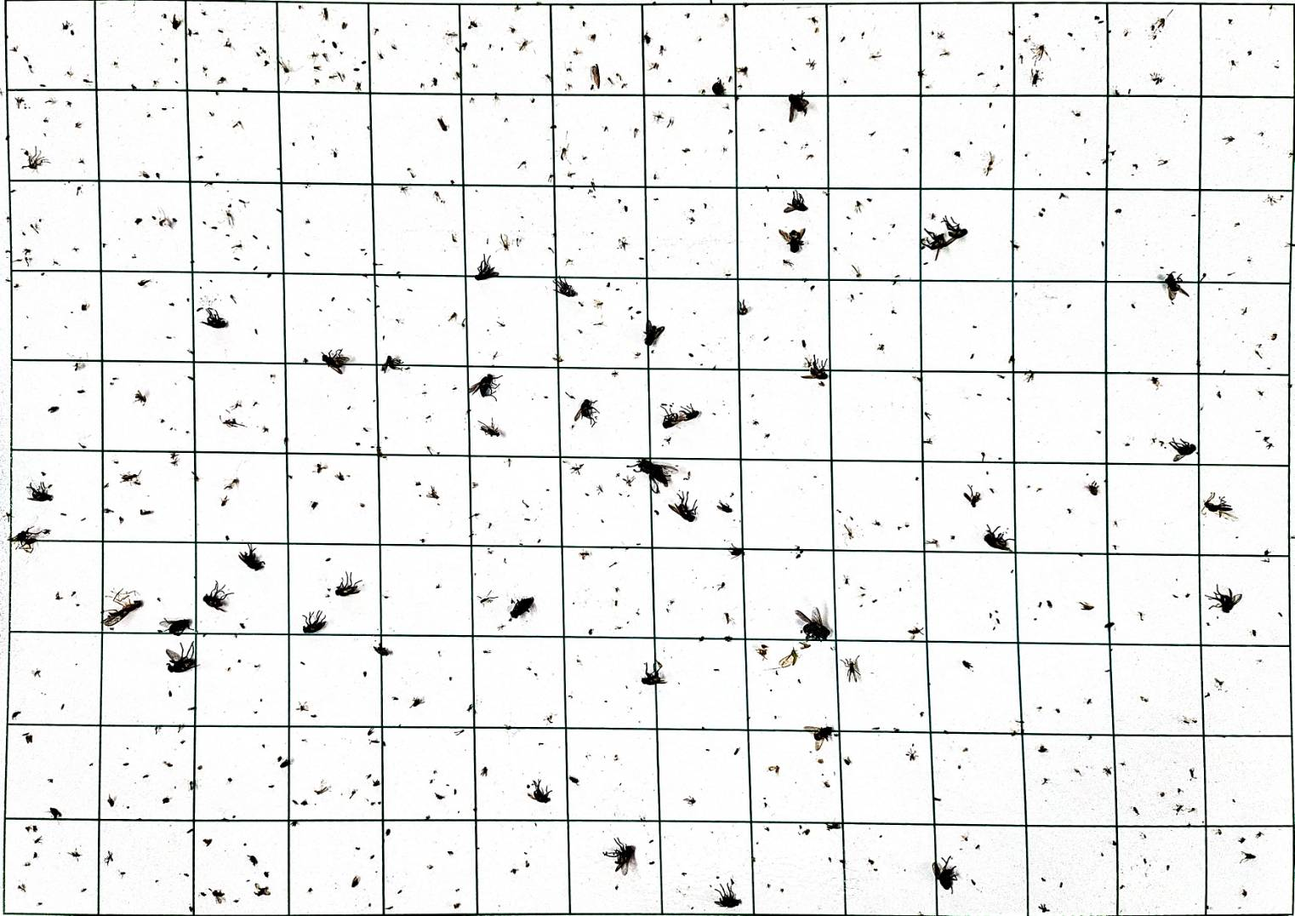fly: (630, 457, 677, 491), (603, 836, 639, 875), (794, 605, 832, 641), (7, 523, 49, 553), (164, 637, 197, 673), (1205, 584, 1242, 613), (660, 401, 699, 428), (931, 855, 959, 892), (1201, 492, 1238, 520), (202, 579, 233, 611), (668, 489, 699, 521), (1161, 271, 1191, 303), (467, 372, 501, 400), (711, 877, 742, 907), (922, 227, 951, 257), (805, 724, 836, 752), (983, 524, 1013, 552), (318, 349, 350, 375), (572, 396, 600, 425), (237, 542, 266, 570), (801, 354, 829, 381), (20, 145, 49, 171), (641, 658, 668, 685), (778, 227, 806, 253), (334, 572, 364, 596), (643, 316, 666, 347), (474, 253, 501, 279), (526, 777, 553, 803), (198, 306, 228, 329), (159, 616, 193, 636), (941, 214, 966, 241), (788, 92, 811, 121), (26, 479, 55, 502), (301, 609, 328, 633), (1171, 436, 1195, 462), (784, 189, 809, 213), (380, 354, 411, 373)
test: (101, 587, 144, 629), (1149, 9, 1173, 40), (508, 595, 535, 621), (841, 653, 863, 682), (553, 276, 578, 298), (478, 417, 504, 438), (778, 645, 800, 669), (155, 207, 177, 228), (963, 484, 982, 507), (1030, 43, 1050, 64), (119, 469, 143, 485), (220, 415, 246, 429), (477, 589, 497, 606), (589, 63, 601, 90), (983, 151, 996, 175), (726, 541, 744, 558), (711, 77, 727, 96), (1030, 67, 1044, 88), (209, 888, 227, 904), (279, 56, 294, 75), (20, 248, 34, 267), (907, 623, 923, 639), (1084, 480, 1101, 495), (253, 882, 271, 896), (373, 643, 392, 656), (133, 389, 148, 405), (425, 484, 440, 500), (716, 499, 733, 513), (737, 298, 750, 316), (170, 13, 183, 31), (905, 743, 918, 761), (1265, 194, 1284, 206), (277, 754, 293, 768), (652, 112, 669, 125), (224, 207, 235, 227), (499, 233, 511, 251), (755, 645, 769, 660), (409, 695, 425, 708), (1148, 376, 1162, 390), (67, 848, 82, 861), (1149, 72, 1164, 85), (48, 806, 62, 819), (518, 38, 531, 52), (376, 447, 389, 461), (437, 116, 449, 131), (808, 14, 823, 26), (313, 784, 329, 795), (568, 463, 584, 474), (1240, 851, 1257, 861), (1078, 601, 1095, 611), (617, 236, 629, 250), (296, 700, 310, 712), (314, 462, 329, 473), (844, 524, 855, 539), (825, 820, 841, 830), (559, 145, 568, 162), (104, 849, 114, 864), (22, 732, 34, 744), (1024, 370, 1035, 383), (1214, 677, 1225, 690), (1037, 902, 1050, 913), (1263, 436, 1274, 449), (737, 65, 748, 78), (724, 611, 734, 625), (219, 495, 230, 507), (247, 854, 258, 866), (16, 96, 27, 108), (806, 58, 817, 70), (106, 794, 116, 807), (351, 874, 361, 887), (73, 361, 86, 371), (578, 550, 591, 560), (854, 200, 864, 213), (169, 452, 179, 465), (1254, 346, 1264, 359), (137, 279, 153, 287), (682, 796, 696, 805), (925, 538, 939, 547), (444, 30, 458, 39), (569, 774, 580, 785), (233, 120, 244, 131), (917, 68, 928, 79), (321, 7, 329, 22), (851, 265, 861, 277), (1172, 805, 1184, 815), (643, 32, 652, 45), (233, 244, 246, 253), (962, 660, 973, 670), (11, 710, 22, 720), (335, 471, 346, 481), (448, 311, 458, 322), (517, 160, 527, 171), (594, 299, 604, 310), (192, 471, 202, 482), (767, 765, 779, 774), (81, 77, 93, 86), (792, 544, 804, 553), (1222, 136, 1235, 144), (869, 52, 882, 60), (252, 328, 260, 341), (185, 28, 198, 36), (18, 882, 28, 892), (1102, 766, 1112, 776), (186, 375, 196, 385), (12, 280, 22, 290), (29, 223, 39, 233), (289, 138, 299, 148), (1037, 744, 1048, 753), (553, 354, 564, 363), (62, 21, 71, 32), (1158, 438, 1167, 449), (186, 347, 195, 358), (295, 4, 306, 13), (134, 216, 143, 227), (140, 508, 154, 515), (467, 513, 481, 520), (1157, 158, 1169, 166), (461, 317, 469, 329), (639, 815, 647, 827), (34, 835, 44, 844), (202, 838, 212, 847), (1263, 548, 1272, 558), (470, 480, 479, 490), (73, 122, 83, 131), (544, 73, 554, 82), (570, 49, 580, 58), (38, 81, 48, 90), (1254, 656, 1264, 665), (1286, 150, 1295, 160), (48, 406, 59, 414), (1104, 621, 1115, 629), (1073, 765, 1081, 776), (467, 20, 478, 28), (216, 76, 227, 84), (514, 236, 522, 247), (698, 87, 709, 95), (939, 49, 951, 56), (481, 649, 493, 656), (32, 668, 41, 677), (843, 756, 852, 765), (189, 781, 198, 790), (548, 246, 557, 255), (282, 435, 291, 444), (545, 714, 554, 723), (273, 208, 282, 217), (201, 219, 210, 228), (224, 40, 233, 49), (354, 81, 363, 90), (393, 316, 402, 325), (1181, 717, 1190, 726), (684, 471, 693, 480), (310, 500, 318, 510), (349, 789, 357, 799), (496, 321, 506, 329), (892, 725, 900, 735), (652, 510, 662, 518), (285, 473, 295, 481), (505, 458, 513, 468), (75, 185, 83, 195), (200, 10, 210, 18), (71, 245, 81, 253), (304, 182, 312, 192), (461, 40, 469, 50), (564, 256, 572, 266), (77, 442, 87, 450), (376, 798, 384, 808), (812, 28, 822, 36), (1190, 715, 1197, 726), (782, 260, 793, 267), (222, 484, 233, 491), (54, 593, 61, 604), (106, 381, 117, 388), (548, 173, 555, 184), (170, 216, 181, 223), (449, 234, 456, 245), (81, 302, 89, 311), (1132, 806, 1140, 815), (290, 820, 299, 828), (1136, 611, 1144, 620), (1188, 768, 1196, 777), (598, 516, 606, 525), (496, 624, 508, 630), (68, 591, 77, 599), (228, 294, 237, 302), (530, 96, 538, 105), (565, 171, 574, 179), (68, 28, 76, 37), (11, 46, 20, 54), (8, 188, 17, 196), (111, 458, 120, 466), (420, 388, 428, 397), (530, 820, 539, 828), (614, 625, 623, 633), (804, 827, 812, 836), (737, 83, 745, 92), (665, 119, 674, 127), (1241, 887, 1248, 897), (1017, 55, 1024, 65), (606, 561, 616, 568), (435, 651, 445, 658), (128, 254, 138, 261), (380, 330, 387, 340), (773, 714, 780, 724), (800, 143, 810, 150), (76, 388, 87, 394), (504, 724, 512, 732), (1005, 395, 1013, 403), (917, 710, 925, 718), (913, 476, 921, 484), (1075, 551, 1083, 559), (362, 425, 370, 433), (487, 549, 495, 557), (238, 621, 246, 629), (73, 602, 81, 610), (38, 268, 46, 276), (565, 83, 573, 91), (206, 111, 214, 119), (26, 66, 34, 74), (303, 218, 311, 226), (300, 357, 308, 365), (101, 483, 109, 491), (751, 854, 759, 862), (761, 825, 769, 833), (1103, 668, 1111, 676), (721, 102, 729, 110), (550, 230, 558, 238), (233, 477, 240, 486), (434, 792, 443, 799), (622, 205, 629, 214), (590, 180, 597, 189), (867, 130, 876, 137), (1270, 332, 1277, 341), (974, 842, 981, 851), (932, 797, 941, 804), (991, 625, 998, 634), (596, 487, 605, 494), (425, 446, 432, 455), (398, 187, 407, 194), (431, 78, 438, 87), (374, 52, 383, 59), (492, 93, 499, 102), (500, 45, 507, 54), (606, 77, 613, 86), (160, 12, 169, 19), (172, 57, 179, 66), (405, 287, 414, 294), (231, 402, 240, 409), (104, 506, 113, 513), (59, 511, 68, 518), (543, 394, 550, 403), (777, 888, 786, 895), (727, 74, 734, 83), (859, 592, 868, 599), (856, 582, 865, 589), (160, 797, 170, 803), (614, 882, 620, 892), (1165, 864, 1171, 874), (1046, 599, 1052, 609), (302, 252, 312, 258), (510, 24, 515, 36), (579, 21, 589, 27), (202, 66, 208, 76), (367, 740, 379, 745), (762, 797, 768, 807), (579, 155, 589, 161), (1288, 240, 1295, 248), (1238, 836, 1246, 843), (939, 32, 946, 40), (1012, 243, 1020, 250), (1200, 273, 1207, 281), (1065, 31, 1073, 38), (999, 373, 1006, 381), (805, 152, 813, 159), (1123, 440, 1130, 448), (1184, 593, 1192, 600), (1183, 822, 1191, 829), (1256, 830, 1264, 837), (635, 608, 642, 616), (262, 426, 270, 433), (223, 536, 231, 543), (311, 714, 319, 721), (164, 334, 172, 341), (195, 154, 202, 162), (153, 171, 160, 179), (139, 172, 147, 179), (331, 149, 338, 157), (466, 97, 474, 104), (41, 116, 48, 124), (311, 65, 319, 72), (322, 51, 329, 59), (36, 217, 44, 224), (307, 133, 315, 140), (367, 124, 375, 131), (345, 305, 352, 313), (588, 190, 596, 197), (195, 285, 203, 292), (251, 401, 259, 408), (62, 323, 70, 330), (269, 372, 276, 380), (465, 408, 472, 416), (68, 308, 76, 315), (1172, 576, 1179, 584), (857, 290, 865, 297), (690, 311, 697, 319), (699, 343, 707, 350), (373, 263, 384, 268), (980, 451, 986, 460), (1229, 59, 1235, 68), (1112, 518, 1118, 527), (866, 859, 875, 865), (870, 598, 879, 604), (382, 594, 391, 600), (412, 480, 421, 486), (728, 489, 734, 498), (566, 66, 572, 75), (150, 214, 159, 220), (550, 124, 559, 130), (394, 271, 400, 280), (23, 314, 32, 320), (824, 780, 830, 789), (1017, 718, 1026, 724), (588, 230, 597, 236), (593, 322, 603, 327), (342, 21, 347, 31), (741, 3, 751, 8), (23, 861, 30, 868), (188, 906, 195, 913), (153, 726, 160, 733), (164, 759, 171, 766), (226, 667, 233, 674), (1006, 30, 1013, 37), (491, 352, 498, 359), (916, 376, 923, 383), (1059, 193, 1066, 200), (1190, 212, 1197, 219), (1040, 777, 1047, 784), (1175, 788, 1182, 795), (1216, 830, 1223, 837), (1040, 876, 1047, 883), (994, 617, 1001, 624), (1008, 567, 1015, 574), (904, 522, 911, 529), (614, 471, 621, 478), (664, 607, 671, 614), (299, 737, 306, 744), (535, 538, 542, 545), (54, 258, 61, 265), (151, 78, 158, 85), (66, 100, 73, 107), (313, 78, 320, 85), (329, 73, 336, 80), (353, 66, 360, 73), (262, 60, 269, 67), (253, 52, 260, 59), (77, 158, 84, 165), (118, 520, 125, 527), (40, 470, 47, 477), (346, 404, 353, 411), (371, 398, 378, 405), (773, 670, 780, 677), (1203, 904, 1210, 911), (1266, 365, 1273, 372), (25, 824, 31, 832), (198, 890, 206, 896), (177, 723, 183, 731), (385, 905, 393, 911), (371, 779, 379, 785), (481, 766, 487, 774), (717, 583, 725, 589), (923, 410, 929, 418), (1227, 271, 1235, 277), (1257, 131, 1265, 137), (1032, 11, 1038, 19), (1228, 17, 1234, 25), (658, 46, 664, 54), (616, 72, 622, 80), (1215, 390, 1221, 398), (960, 835, 968, 841), (940, 729, 948, 735), (581, 492, 589, 498), (485, 522, 493, 528), (468, 531, 476, 537), (368, 728, 374, 736), (249, 266, 257, 272), (166, 302, 174, 308), (156, 417, 164, 423), (238, 200, 246, 206), (234, 256, 242, 262), (433, 191, 439, 199), (455, 71, 461, 79), (514, 5, 520, 13), (470, 62, 478, 68), (64, 70, 72, 76), (112, 60, 120, 66), (339, 71, 345, 79), (99, 243, 107, 249), (358, 245, 366, 251), (363, 270, 369, 278), (485, 236, 491, 244), (471, 571, 479, 577), (826, 855, 832, 863), (634, 309, 642, 315), (725, 270, 731, 278), (396, 887, 401, 896), (1117, 884, 1126, 889), (960, 747, 969, 752), (391, 41, 396, 50), (46, 98, 55, 103), (233, 897, 240, 903), (186, 827, 193, 833), (233, 632, 239, 639), (260, 743, 267, 749), (268, 783, 275, 789), (226, 777, 233, 783), (385, 829, 391, 836), (453, 902, 459, 909), (361, 669, 367, 676), (466, 704, 473, 710), (456, 730, 463, 736), (733, 748, 740, 754), (794, 553, 800, 560), (926, 437, 932, 444), (878, 345, 885, 351), (800, 340, 806, 347), (610, 370, 617, 376), (568, 184, 574, 191), (954, 151, 960, 158), (977, 71, 983, 78), (1099, 238, 1105, 245), (1130, 302, 1137, 308), (1244, 256, 1250, 263), (858, 31, 864, 38), (1247, 51, 1253, 58), (1022, 36, 1029, 42), (994, 84, 1000, 91), (602, 125, 609, 131), (848, 295, 855, 301), (684, 13, 691, 19), (1203, 692, 1210, 698), (1141, 858, 1148, 864), (956, 763, 963, 769), (1036, 601, 1042, 608), (1030, 616, 1037, 622), (1095, 429, 1102, 435), (699, 635, 705, 642), (434, 583, 440, 590), (420, 537, 426, 544), (417, 492, 423, 499), (424, 414, 431, 420), (155, 596, 162, 602), (533, 671, 540, 677), (251, 233, 258, 239), (264, 245, 270, 252), (407, 164, 413, 171), (449, 180, 455, 187), (502, 117, 508, 124), (452, 46, 459, 52), (622, 83, 628, 90), (213, 91, 220, 97), (217, 28, 224, 34), (330, 42, 336, 49), (311, 52, 318, 58), (338, 50, 344, 57), (360, 60, 366, 67), (172, 78, 179, 84), (259, 46, 265, 53), (374, 304, 380, 311), (374, 283, 380, 290), (189, 259, 196, 265), (211, 225, 218, 231), (839, 857, 845, 864), (711, 365, 718, 371), (473, 188, 480, 194), (568, 4, 574, 11), (510, 866, 515, 874), (650, 859, 655, 867), (634, 352, 642, 357), (1100, 158, 1108, 163), (1072, 111, 1080, 116), (1268, 2, 1272, 12), (929, 211, 934, 219), (1252, 630, 1257, 638), (1009, 730, 1017, 735), (989, 486, 994, 494), (357, 503, 365, 508), (568, 693, 573, 701), (374, 28, 379, 36), (439, 200, 447, 205), (184, 297, 192, 302), (184, 428, 189, 436), (81, 515, 86, 523), (274, 165, 282, 170), (616, 780, 621, 788), (876, 834, 884, 839), (118, 870, 124, 876), (258, 697, 264, 703), (425, 812, 429, 821), (762, 335, 768, 341), (1115, 208, 1121, 214), (1131, 163, 1137, 169), (1123, 29, 1129, 35), (1000, 122, 1006, 128), (701, 203, 707, 209), (632, 129, 638, 135), (720, 146, 726, 152), (809, 285, 815, 291), (688, 207, 694, 213), (1159, 265, 1165, 271), (1172, 593, 1178, 599), (1188, 806, 1194, 812), (1058, 882, 1064, 888), (872, 725, 878, 731), (873, 519, 879, 525), (1025, 484, 1031, 490), (1036, 488, 1042, 494), (724, 636, 730, 642), (365, 773, 371, 779), (432, 768, 438, 774), (576, 658, 582, 664), (713, 667, 719, 673), (328, 295, 334, 301), (487, 43, 493, 49), (131, 82, 137, 88), (68, 29, 74, 35), (519, 214, 525, 220), (168, 427, 174, 433), (603, 696, 607, 705), (817, 758, 823, 764), (796, 823, 802, 829), (768, 688, 774, 694), (188, 706, 195, 711), (254, 663, 259, 670), (426, 865, 433, 870), (903, 147, 910, 152), (1241, 308, 1248, 313), (1127, 88, 1132, 95), (1081, 46, 1086, 53), (1114, 90, 1119, 97), (638, 256, 645, 261), (614, 287, 621, 292), (664, 437, 669, 444), (652, 196, 659, 201), (723, 13, 728, 20), (1254, 428, 1261, 433), (1257, 390, 1264, 395), (1139, 696, 1146, 701), (1085, 699, 1092, 704), (873, 866, 878, 873), (987, 612, 992, 619), (325, 586, 332, 591), (354, 442, 361, 447), (452, 788, 457, 795), (544, 488, 549, 495), (523, 500, 528, 507), (523, 517, 530, 522), (617, 492, 622, 499), (813, 473, 818, 480), (110, 375, 117, 380), (206, 180, 211, 187), (419, 82, 424, 89), (241, 87, 248, 92), (160, 107, 167, 112), (143, 112, 150, 117), (320, 40, 327, 45), (454, 811, 461, 816), (764, 882, 771, 887), (795, 679, 802, 684), (1218, 285, 1223, 292), (226, 202, 231, 209), (844, 578, 848, 586), (682, 149, 690, 153), (834, 509, 842, 513), (569, 600, 577, 604), (81, 886, 86, 892), (48, 777, 54, 782), (264, 871, 269, 877), (122, 761, 128, 766), (166, 690, 171, 696), (301, 800, 307, 805), (368, 854, 374, 859), (447, 850, 452, 856), (540, 741, 545, 747), (682, 872, 687, 878), (613, 600, 618, 606), (763, 431, 768, 437), (604, 281, 610, 286), (577, 301, 583, 306), (577, 329, 583, 334), (689, 216, 695, 221), (987, 102, 992, 108), (1036, 211, 1042, 216), (999, 64, 1004, 70), (1093, 15, 1099, 20), (1109, 150, 1115, 155), (1097, 19, 1103, 24), (867, 196, 872, 202), (833, 246, 838, 252), (652, 174, 658, 179), (764, 185, 769, 191), (762, 222, 767, 228), (891, 281, 897, 286), (710, 411, 716, 416), (842, 78, 847, 84), (591, 34, 596, 40), (697, 36, 702, 42), (1112, 545, 1118, 550), (1221, 368, 1226, 374), (1087, 733, 1092, 739), (1230, 797, 1235, 803), (1112, 840, 1118, 845), (1098, 852, 1103, 858), (970, 879, 975, 885), (897, 585, 902, 591), (994, 607, 999, 613), (325, 556, 331, 561), (525, 665, 531, 670), (318, 308, 324, 313), (20, 232, 26, 237), (409, 173, 414, 179), (159, 41, 165, 46), (367, 298, 372, 304), (452, 385, 458, 390), (325, 593, 331, 598), (1130, 173, 1135, 179), (616, 198, 622, 203), (696, 260, 701, 266), (650, 247, 655, 253), (42, 131, 47, 137), (33, 824, 37, 831), (153, 878, 160, 882), (141, 773, 148, 777), (614, 754, 618, 761), (588, 629, 592, 636), (891, 223, 895, 230), (870, 235, 874, 242), (823, 192, 830, 196), (947, 535, 954, 539), (1065, 509, 1072, 513), (21, 346, 28, 350), (23, 58, 30, 62), (869, 333, 876, 337), (1038, 171, 1042, 178), (847, 231, 854, 235), (37, 901, 42, 906), (183, 872, 188, 877), (242, 842, 247, 847), (88, 761, 93, 766), (292, 798, 297, 803), (392, 696, 397, 701), (523, 851, 528, 856), (704, 748, 709, 753), (628, 315, 633, 320), (688, 352, 693, 357), (782, 140, 787, 145), (1235, 221, 1240, 226), (1086, 171, 1091, 176), (726, 130, 731, 135), (891, 309, 896, 314), (977, 391, 982, 396), (923, 261, 928, 266), (666, 78, 671, 83), (1054, 708, 1059, 713), (1158, 793, 1163, 798), (1141, 833, 1146, 838), (858, 603, 863, 608), (444, 783, 449, 788), (623, 685, 628, 690), (996, 456, 1001, 461), (244, 878, 250, 882), (124, 745, 130, 749), (202, 632, 208, 636), (235, 659, 241, 663), (252, 710, 258, 714), (195, 765, 201, 769), (299, 661, 305, 665), (649, 837, 653, 843), (925, 84, 931, 88), (651, 64, 657, 68), (1149, 436, 1153, 442), (1278, 611, 1282, 617), (1036, 705, 1042, 709), (668, 599, 674, 603), (383, 435, 387, 441), (224, 235, 230, 239), (215, 171, 219, 177), (625, 618, 629, 624), (754, 841, 760, 845), (1235, 534, 1239, 540), (403, 21, 407, 27), (895, 274, 902, 277), (32, 852, 37, 856), (307, 888, 312, 892), (428, 778, 433, 782), (839, 37, 844, 41), (968, 141, 973, 145), (1066, 303, 1071, 307), (1083, 137, 1088, 141), (1275, 65, 1279, 70), (845, 215, 850, 219), (775, 174, 780, 178), (971, 355, 976, 359), (1014, 291, 1018, 296), (1041, 207, 1045, 212), (791, 46, 795, 51), (1205, 622, 1210, 626), (849, 516, 853, 521), (984, 471, 988, 476), (501, 558, 505, 563), (209, 278, 214, 282), (1121, 760, 1126, 764), (363, 251, 367, 256), (525, 862, 528, 868), (613, 588, 619, 591), (1023, 153, 1029, 156), (265, 274, 271, 277), (1216, 614, 1219, 620), (230, 814, 234, 818), (125, 805, 129, 809), (74, 661, 78, 665), (355, 846, 359, 850), (367, 903, 371, 907), (752, 420, 756, 424), (1108, 30, 1112, 34), (759, 129, 763, 133), (898, 526, 902, 530), (1083, 471, 1087, 475), (699, 361, 703, 365), (59, 705, 64, 708), (180, 739, 183, 744), (454, 887, 459, 890), (701, 725, 704, 730), (628, 306, 633, 309), (973, 324, 976, 329), (750, 393, 754, 396), (174, 785, 177, 788), (369, 800, 371, 804), (449, 676, 451, 680)
